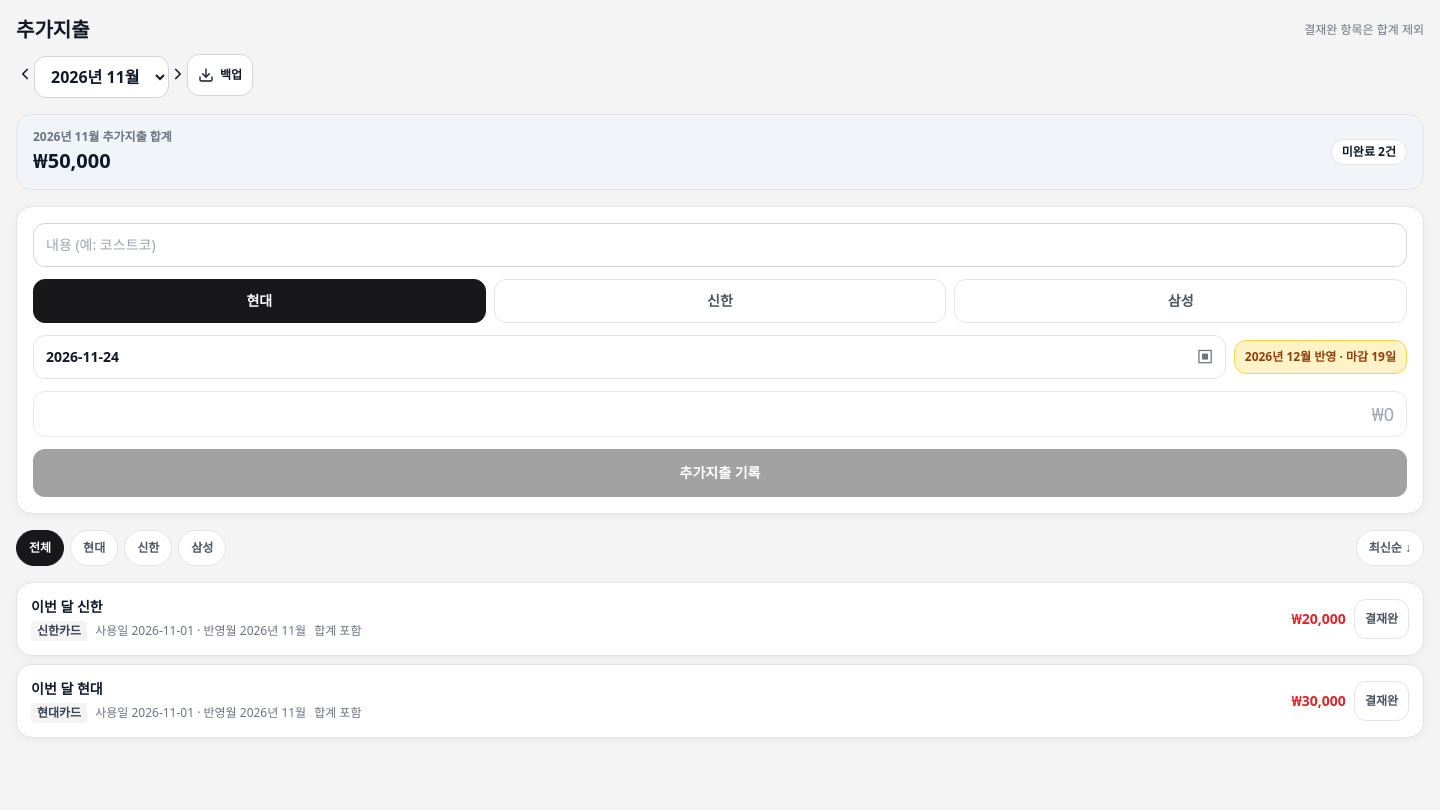
ExtraSpendingPage › shows the monthly summary card at the top and keeps month and card filters applied
Expected: the element showing "2026년 11월 추가지출 합계 ₩50,000 미완료 2건" is shown, [16,114,1424,190]
Click the 2nd button "현대".
click(94, 548)  # box [70,530,118,566]
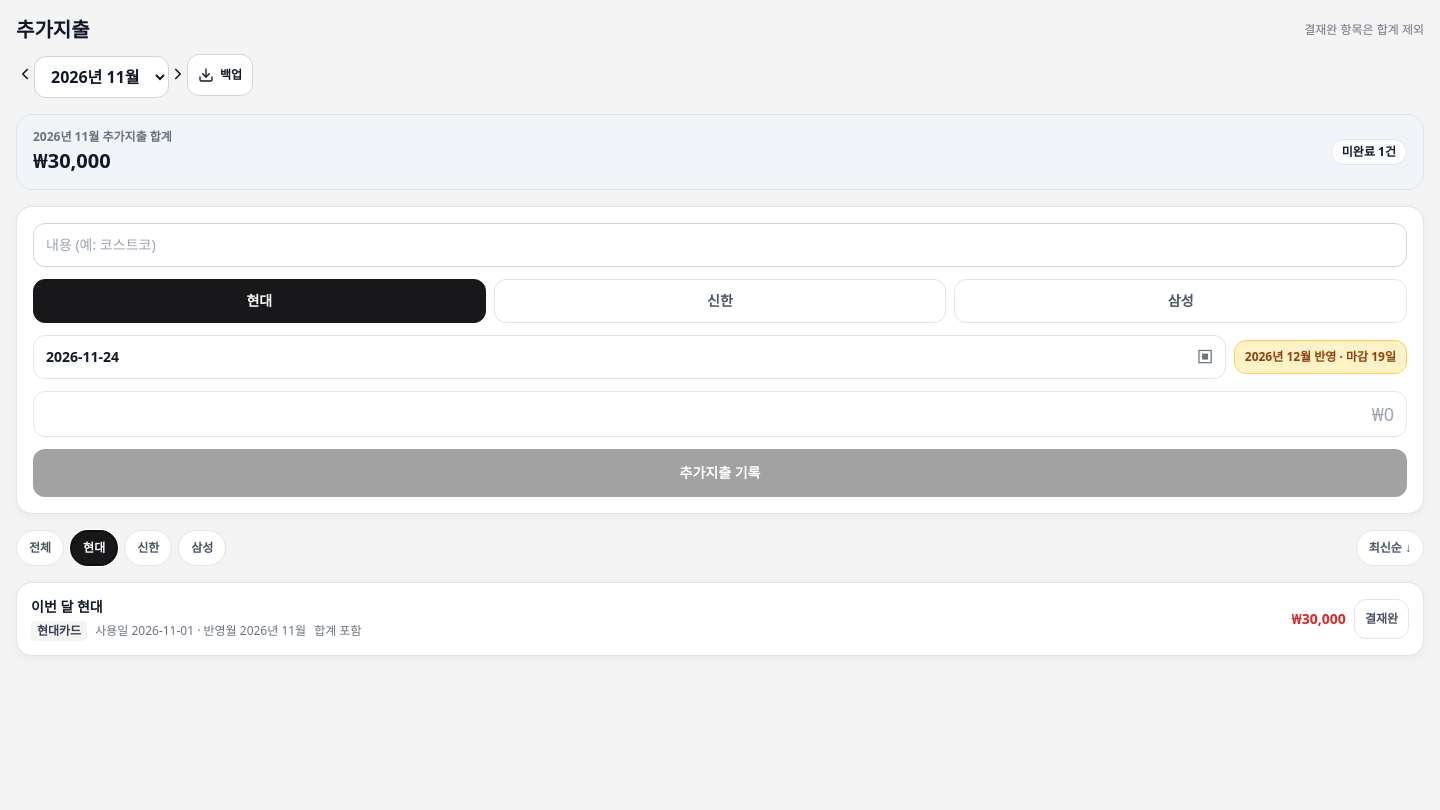
Expected: the element showing "2026년 11월 추가지출 합계 ₩30,000 미완료 1건" is shown, [16,114,1424,190]
Select "2026년 10월" in the dropdown named "목록 월" at [102, 77], box [34,56,169,98]
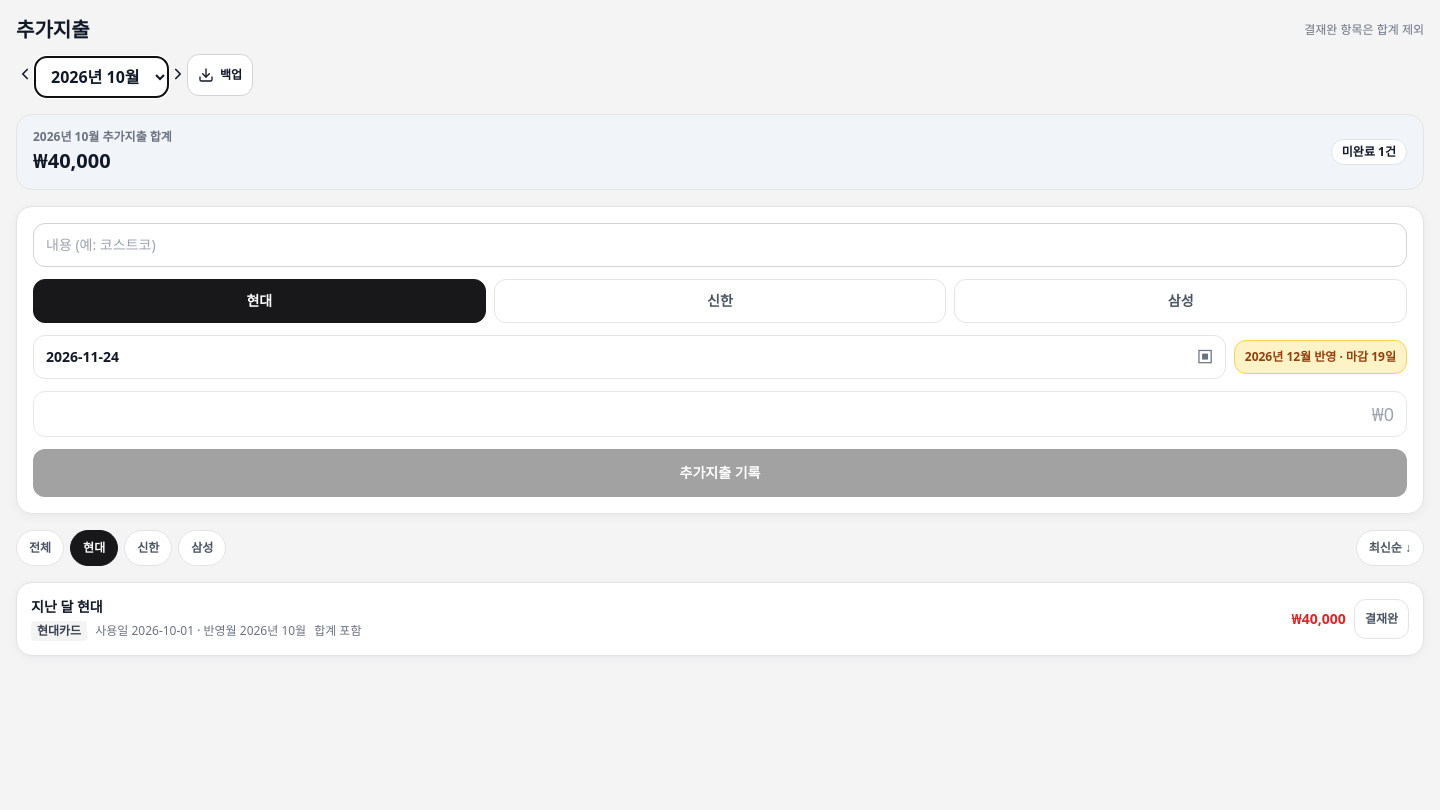
Expected: the element "지난 달 현대" is shown, [16,582,1424,656]
Expected: the element showing "2026년 10월 추가지출 합계 ₩40,000 미완료 1건" is shown, [16,114,1424,190]
